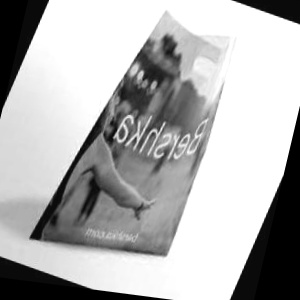bershka: (142, 53, 285, 168)
